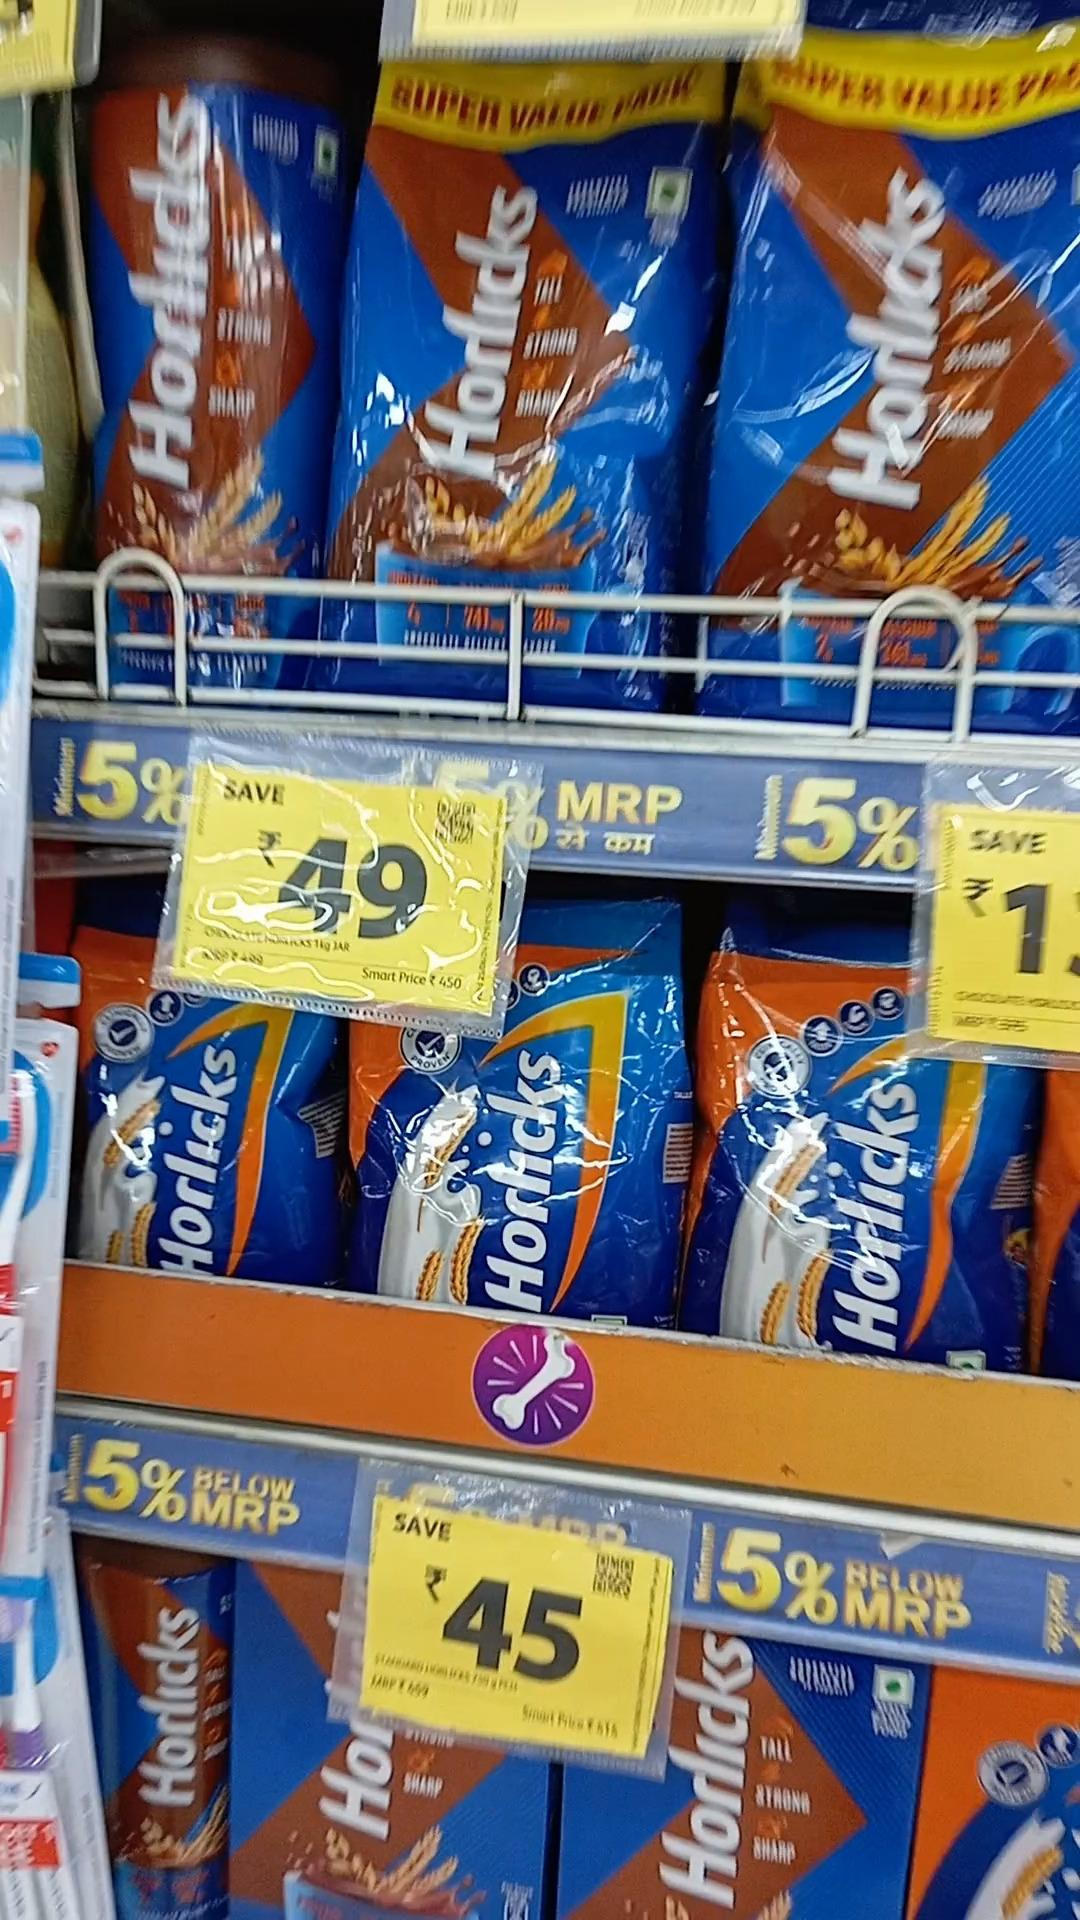HORLICK_CHOCOLATE_1_KG_JAR: (83, 26, 307, 678)
HORLICK_CHOCOLATE_750_G_POUCH: (723, 49, 1080, 723), (328, 70, 696, 705)
HORLICK_CLASSIC_MALT_750_G_POUCH: (702, 924, 1034, 1370), (352, 940, 690, 1313)
